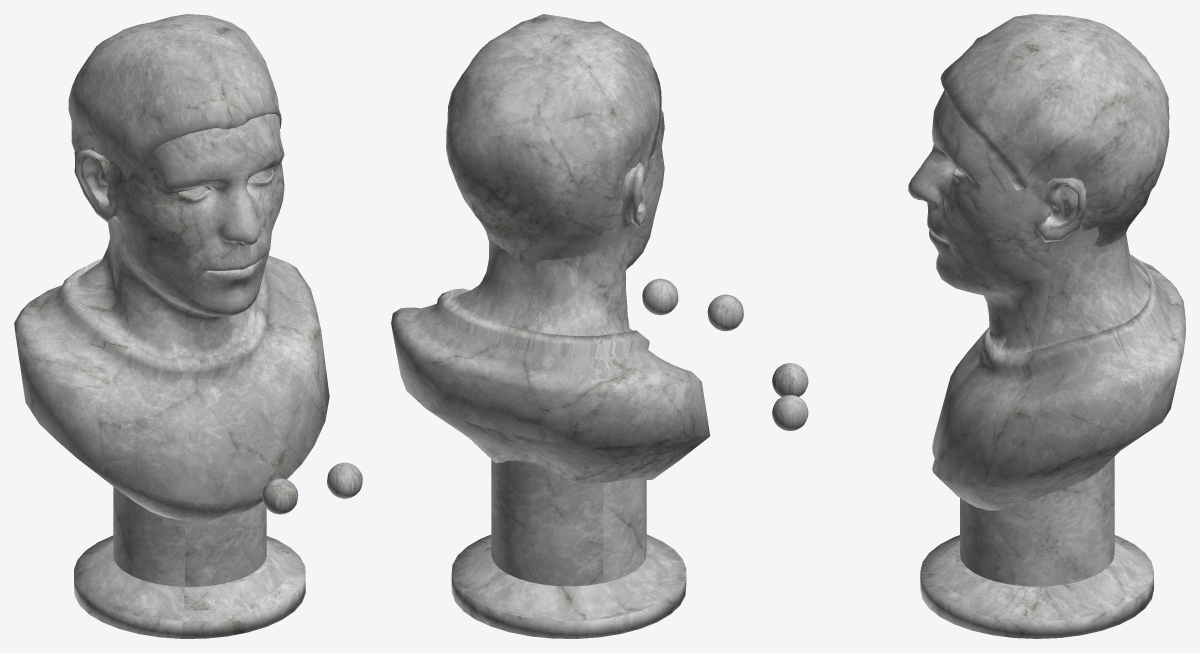
File: ManBust.fbx
3 renders of one model, left to right at view 1: azimuth 30°, elevation 25°; view 2: azimuth 150°, elevation 25°; view 3: azimuth 270°, elevation 25°, orthographic.
Parts seen in each view (by area): view 1: MaleHead, eye_L, eye_R; view 2: MaleHead, eye_L, eye_R; view 3: MaleHead, eye_L, eye_R.
Boxes of the visible parts, x1,y1,x2,y2 form: MaleHead: [14, 14, 329, 638]; eye_L: [327, 462, 362, 498]; eye_R: [262, 478, 298, 514]; MaleHead: [391, 14, 710, 638]; eye_L: [642, 278, 678, 315]; eye_R: [707, 294, 743, 331]; MaleHead: [908, 14, 1185, 638]; eye_L: [772, 394, 808, 430]; eye_R: [772, 363, 808, 396].
Bounding box in the file's own units: 422 × 799 × 535.
1 material, 1 textured.
